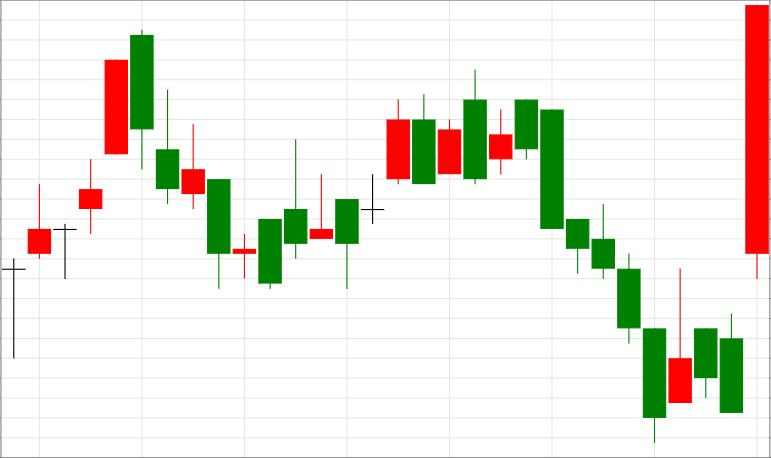inverse_hammer_rise: (515, 99, 692, 443)
